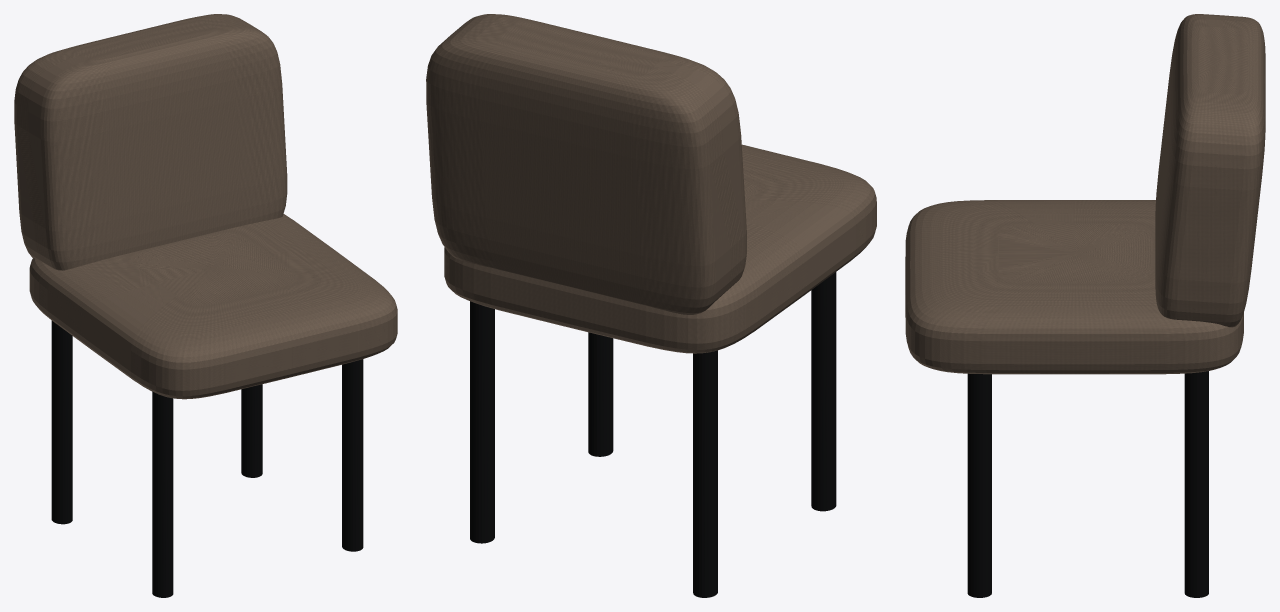
The model's file is dining-chair-upholstered.glb.
3 views of the same model, side by side, from view 1: azimuth 30°, elevation 25°; view 2: azimuth 150°, elevation 25°; view 3: azimuth 270°, elevation 25° (orthographic). The views are drawn at different scales.
Parts seen in each view (by area): view 1: back, seat, leg_3, leg_1, leg_4, leg_2; view 2: back, seat, leg_1, leg_3, leg_2, leg_4; view 3: seat, back, leg_2, leg_4.
Boxes of the visible parts, x1,y1,x2,y2 form: back: (14, 14, 287, 270); seat: (29, 214, 397, 399); leg_3: (152, 391, 173, 597); leg_1: (51, 321, 72, 524); leg_4: (342, 359, 363, 551); leg_2: (241, 384, 262, 477); back: (426, 14, 746, 314); seat: (444, 144, 876, 353); leg_1: (693, 350, 717, 597); leg_3: (811, 272, 836, 511); leg_2: (470, 301, 494, 543); leg_4: (588, 332, 613, 456); seat: (905, 200, 1243, 374); back: (1155, 14, 1265, 327); leg_2: (1184, 371, 1208, 597); leg_4: (967, 373, 991, 597).
Bounding box in the file's own units: 0.5 × 0.86 × 0.58.
2 materials, 2 textured.
